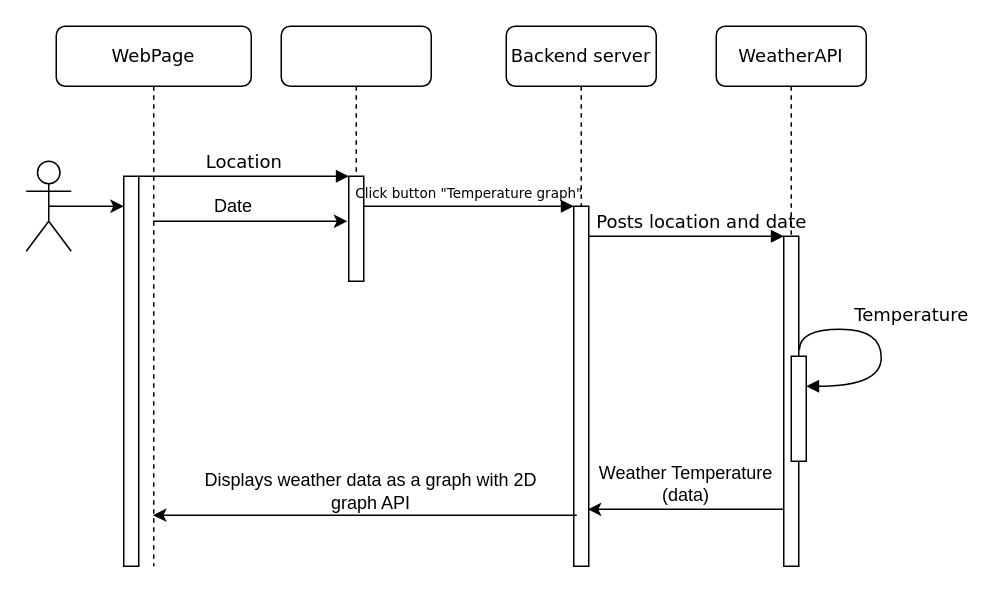
This 995x593 diagram has some shape labels left out. Here are the shapes that lost their labels. From the top down, the centre of each, then its label:
At point 355,153: "Input field".
At point 48,205: "User".
